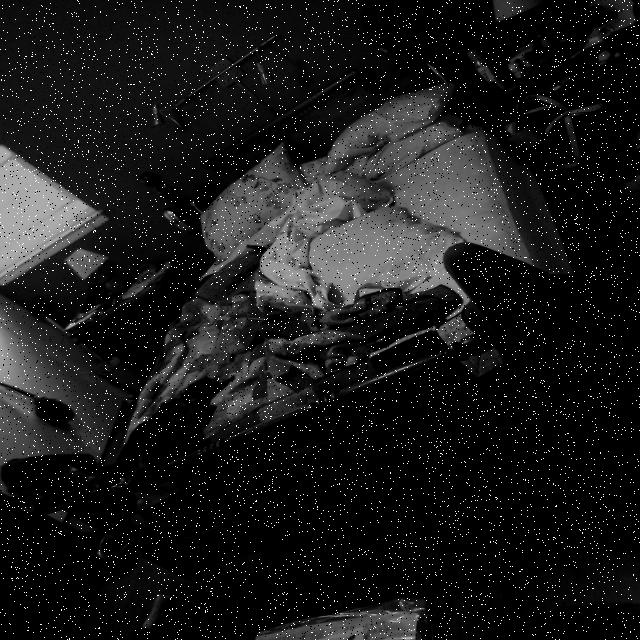bed: (126, 59, 495, 494)
